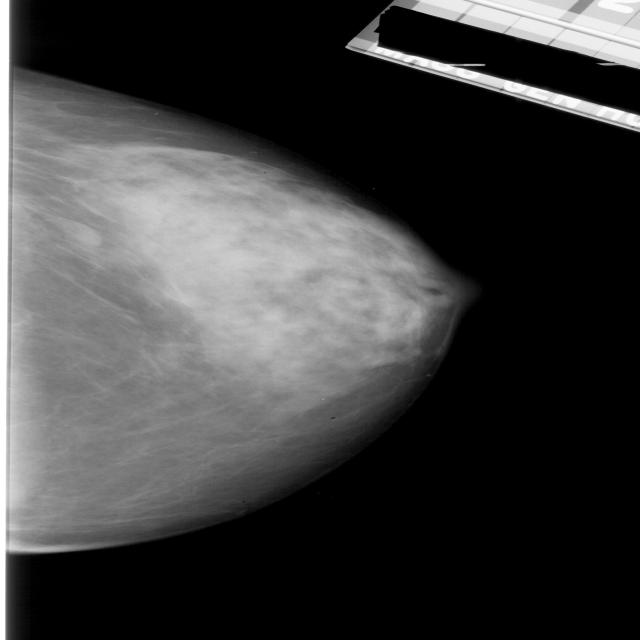cancer: (93, 124, 489, 434)
